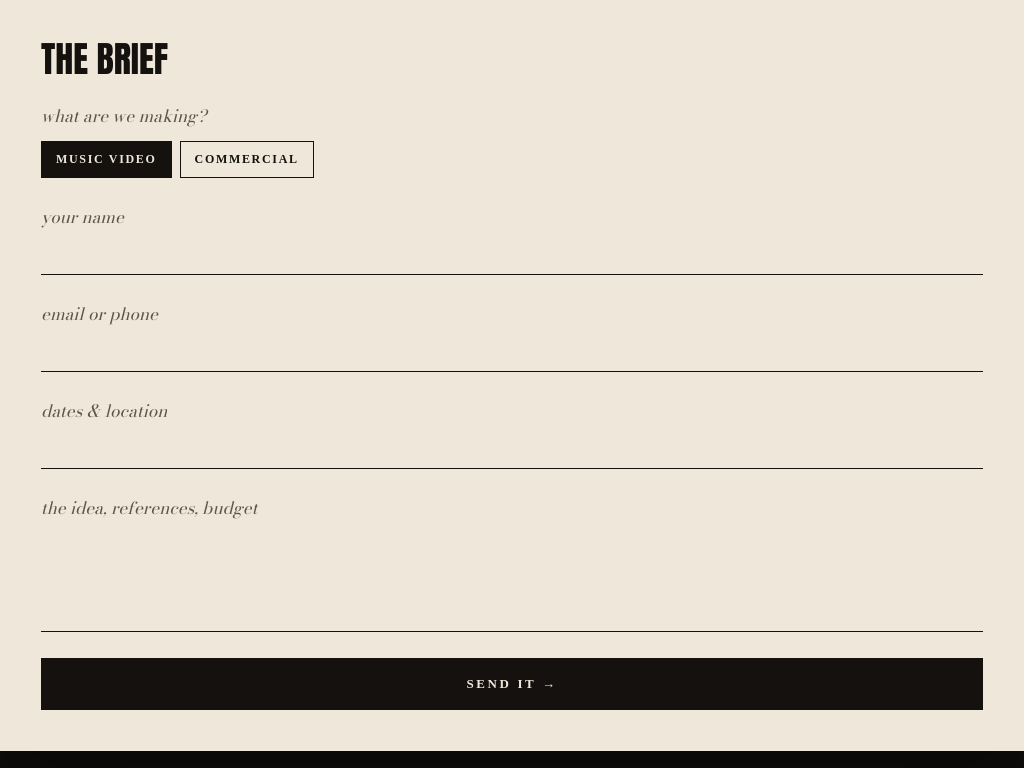
Test case: BriefForm › keeps the text and shows a retry message when the network fails
Type "Asha" into the field labelled "your name". click: (512, 256)
box: [41,236,983,275]
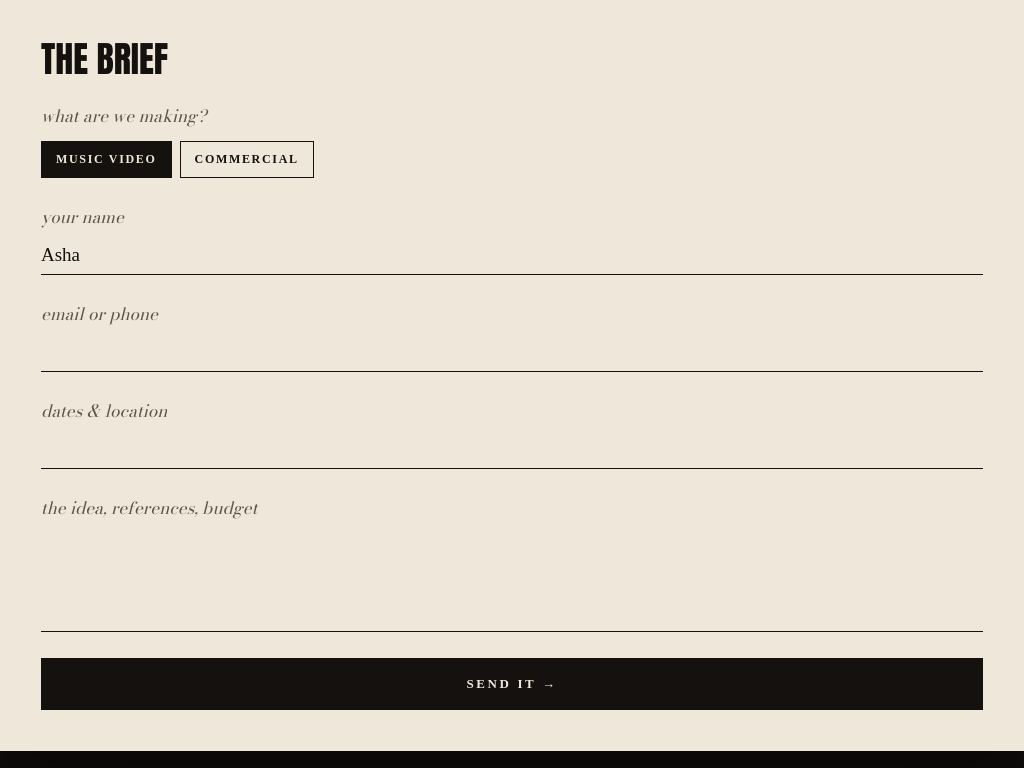
Type "asha@example.com" into the field labelled "email or phone". click: (512, 352)
box: [41,333,983,372]
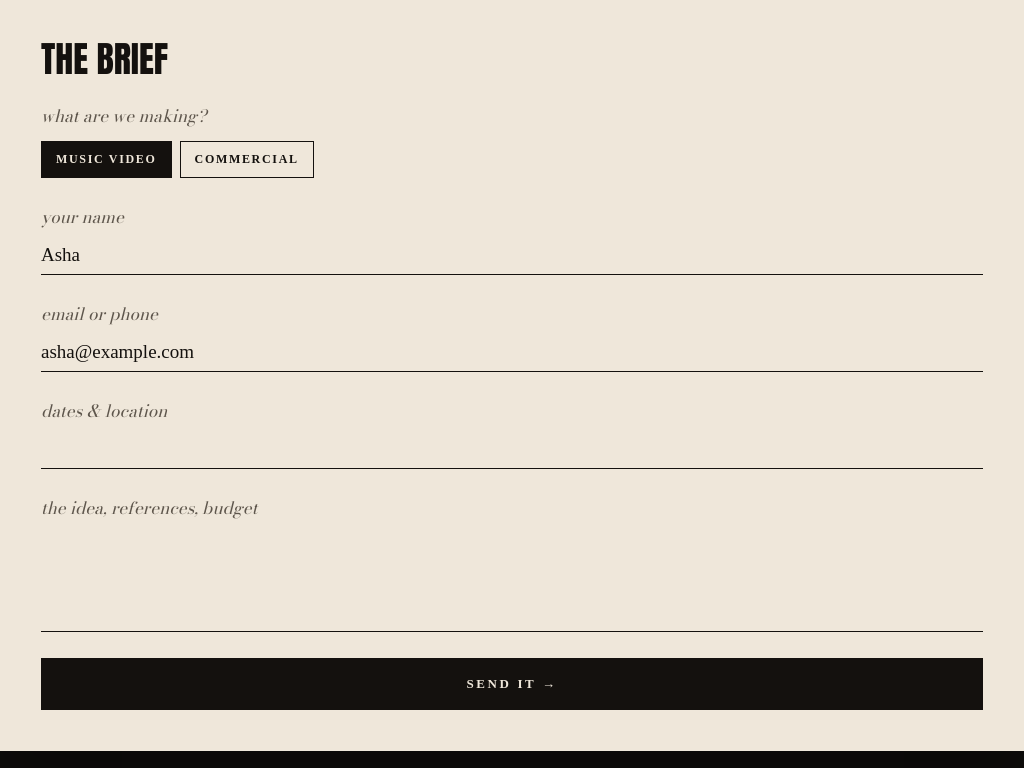
Click the button "Send it →". click: (512, 684)
box: [41,658,983,710]
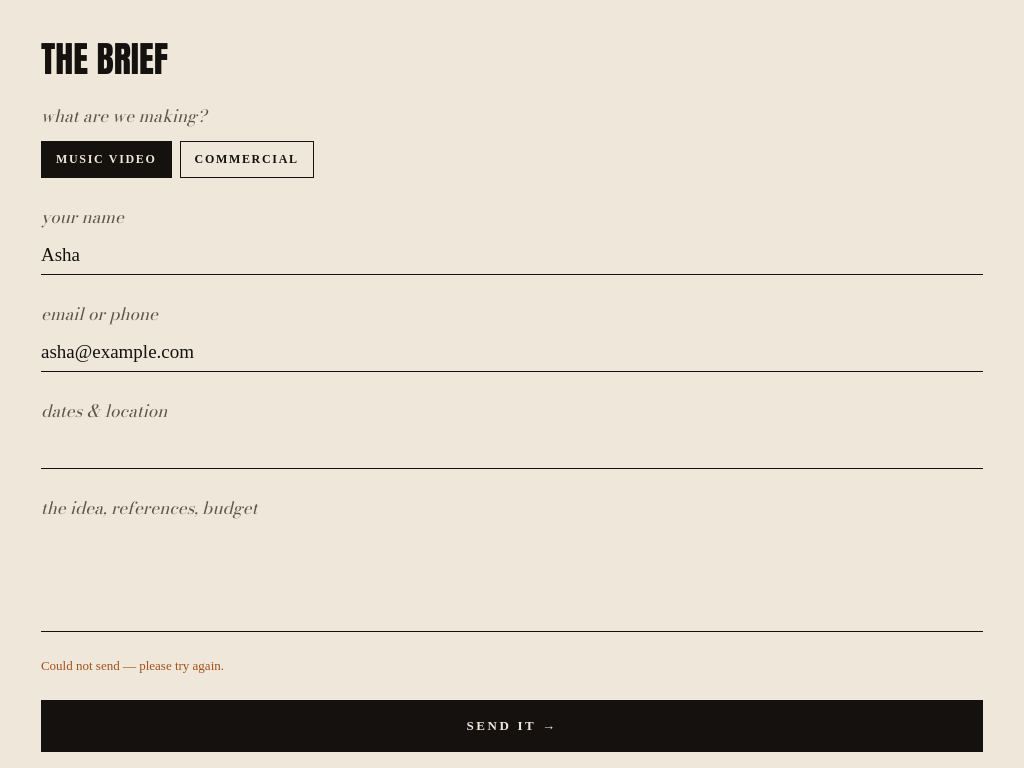
Expected: the text "Could not send — please try again." is shown, [41,658,224,673]
